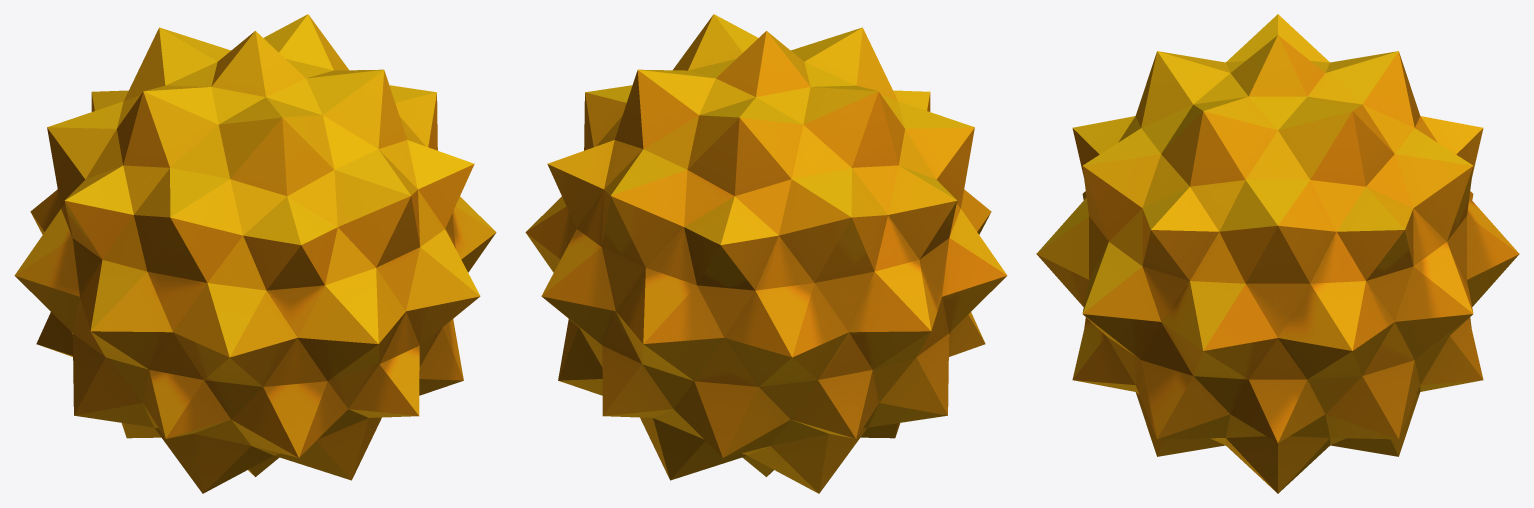
The model's file is PUSHILIN_sun.gltf.
3 renders of one model, left to right at view 1: azimuth 30°, elevation 25°; view 2: azimuth 150°, elevation 25°; view 3: azimuth 270°, elevation 25°, orthographic.
Parts seen in each view (by area): view 1: node-0; view 2: node-0; view 3: node-0.
Boxes of the visible parts, box(x1,y1,x2,y2) form: node-0: box(14, 14, 496, 493); node-0: box(525, 14, 1007, 493); node-0: box(1036, 14, 1519, 493).
Bounding box in the file's own units: 1.23 × 1.29 × 1.29.
1 material, 1 textured.
